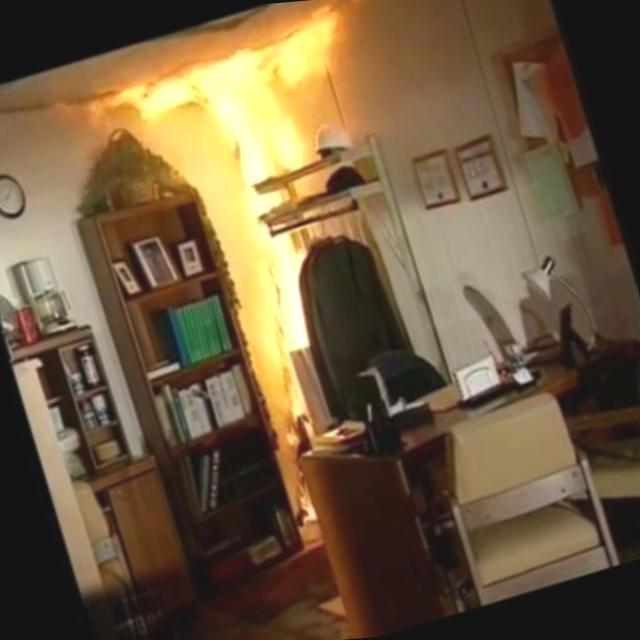fire: (118, 14, 360, 239)
